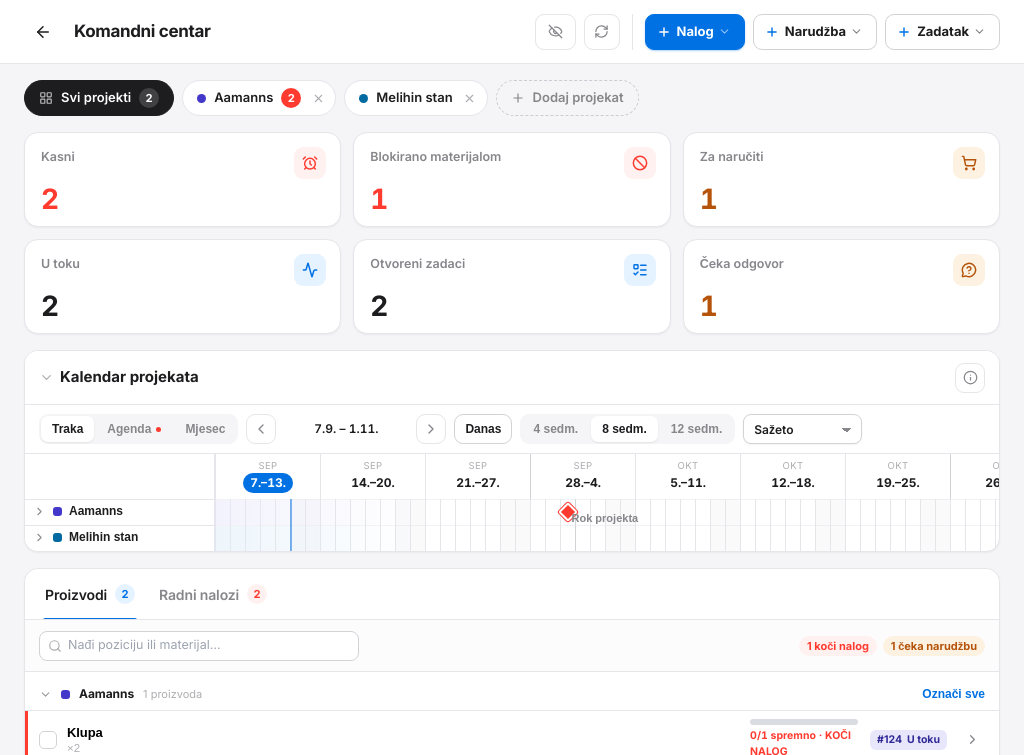
Test case: grupa projekta se može sklopiti da duga lista ne guši ostatak strane
The width and height of the screenshot is (1024, 755).
Expected: the checkbox is shown, [39,730,57,748]
Step 1. Click the button "Aamanns 1 proizvoda" → (107, 694), box [39,685,913,703]
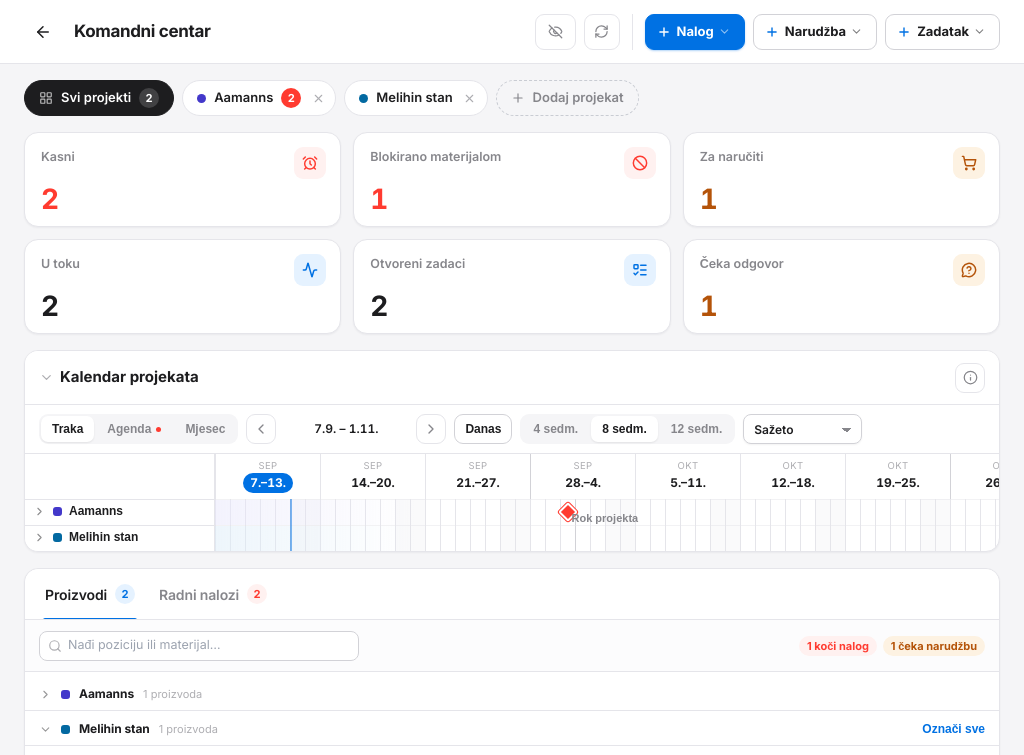
Expected: the button "Aamanns 1 proizvoda" is collapsed, [39,685,985,703]
